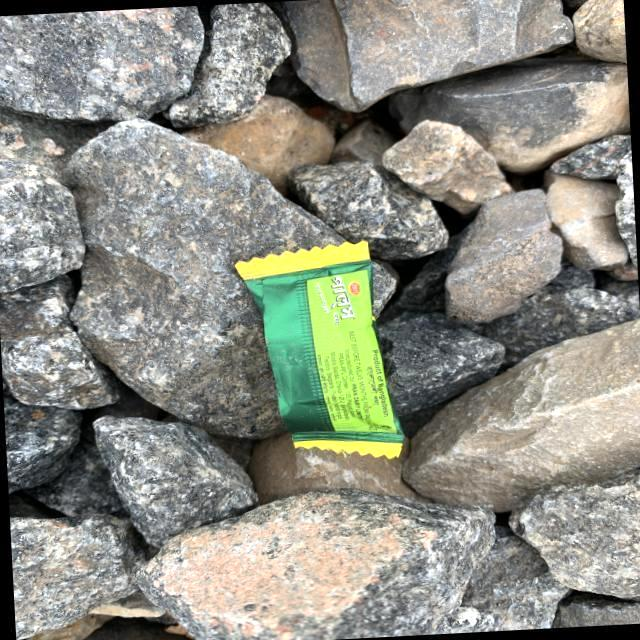packet: (240, 234, 400, 471)
